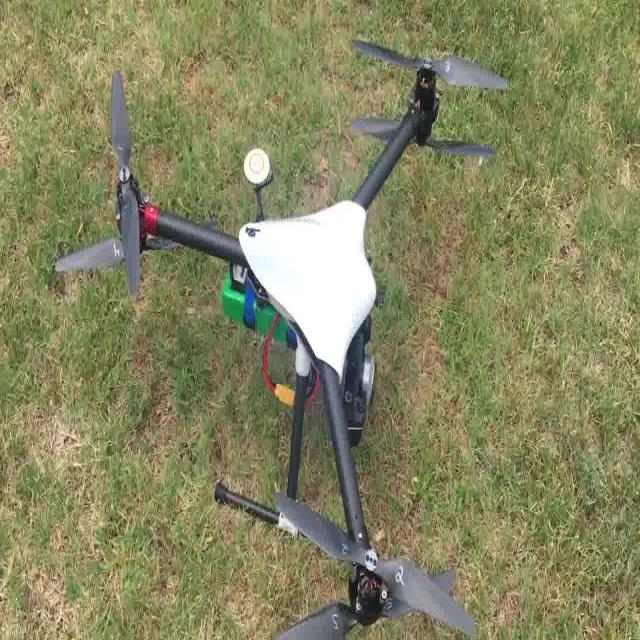Drone_FW: (53, 37, 509, 638)
